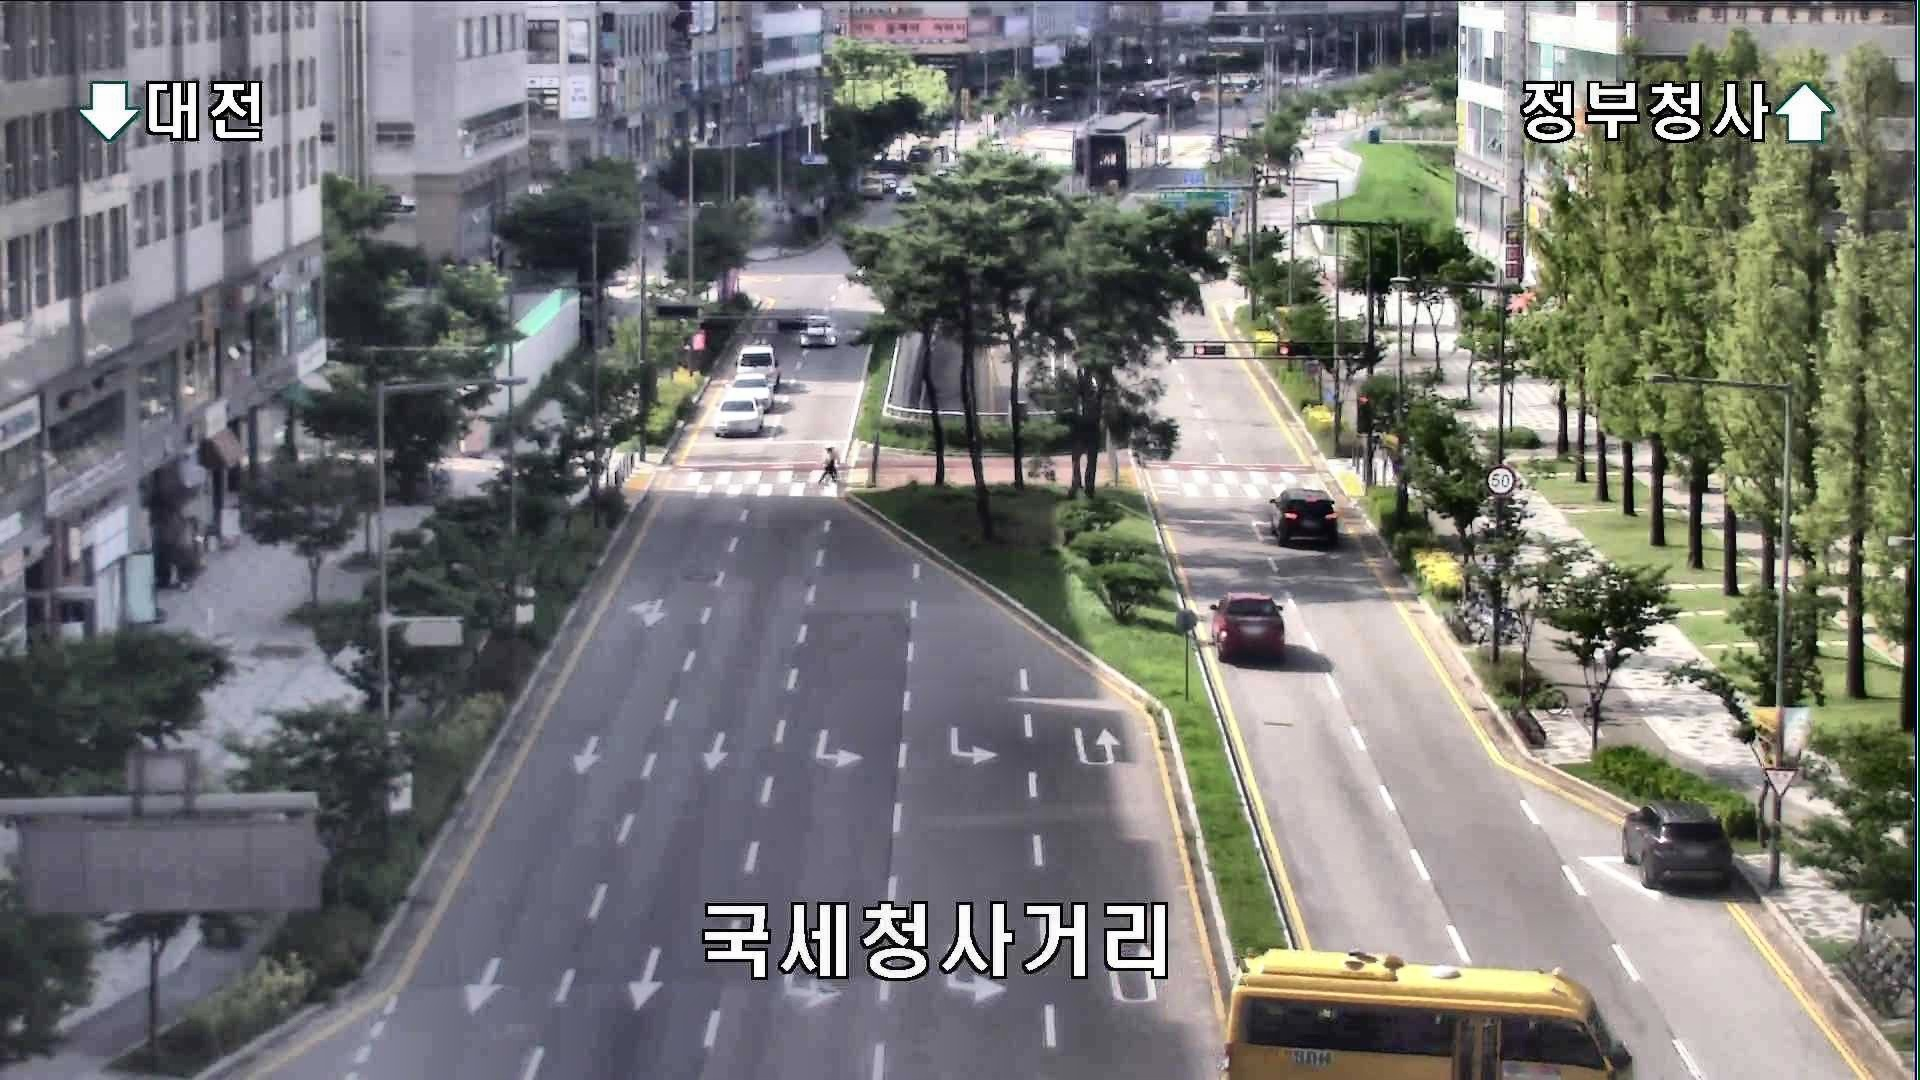um_crosswalk: (815, 440, 845, 487)
